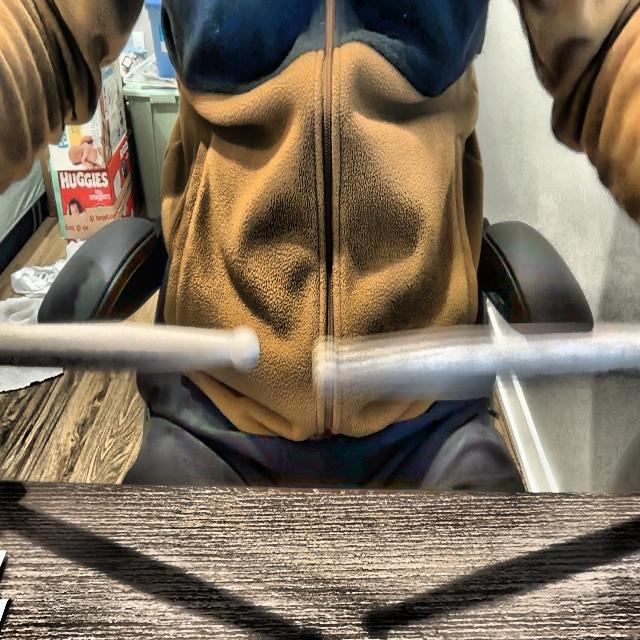Drumstick-Heads: (314, 335, 341, 404), (232, 319, 261, 376)
